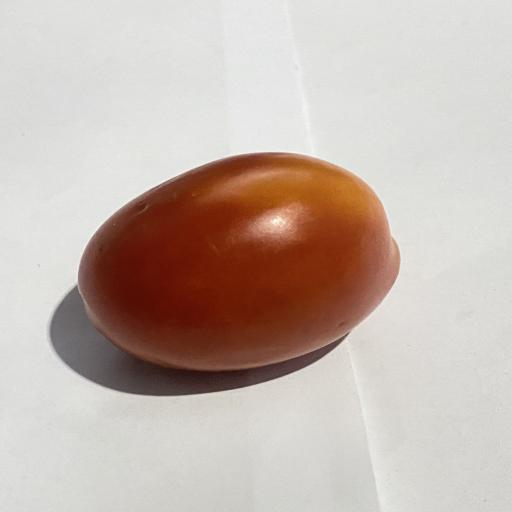ripe: (79, 153, 399, 371)
